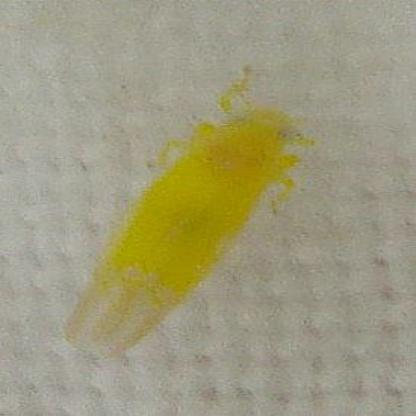green-leafhopper: (66, 95, 319, 350)
